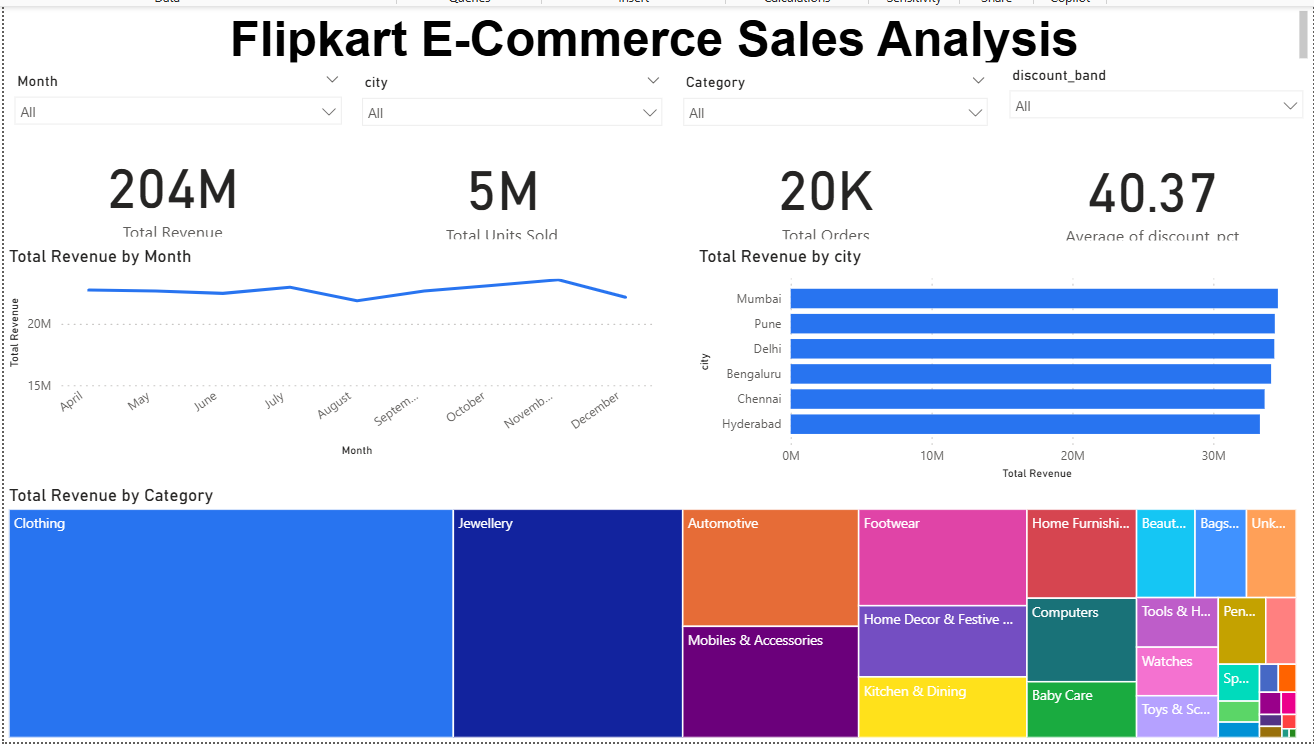

What the dashboard file says about the page in this screenshot:
{"tool":"powerbi","page":{"name":"Executive Overview","canvas":[1280,720],"ordinal":0},"visuals":[{"type":"card","fields":{"Values":["flipkart_cleaned.Total Revenue"]},"box":[0,134.5,330.7,96.1],"z":0},{"type":"card","fields":{"Values":["flipkart_cleaned.Total Units Sold"]},"box":[340.3,137.2,295,96.1],"z":1000},{"type":"card","fields":{"Values":["flipkart_cleaned.Total Orders"]},"box":[639.5,137.2,329.3,96.1],"z":2000},{"type":"card","fields":{"Values":["Avg(flipkart_cleaned.discount_pct)"]},"box":[972.9,138.6,300.5,96.1],"z":3000},{"type":"clusteredBarChart","fields":{"Y":["flipkart_cleaned.Total Revenue"],"Category":["flipkart_cleaned.city"]},"box":[675.1,234.6,594.2,233.3],"z":4000},{"type":"lineChart","fields":{"Y":["flipkart_cleaned.Total Revenue"],"Category":["flipkart_cleaned.month.Variation.Date Hierarchy.Month"]},"box":[0,234.6,639.5,211.3],"z":5000},{"type":"treemap","fields":{"Group":["flipkart_cleaned.Category"],"Values":["flipkart_cleaned.Total Revenue"]},"box":[0,467.9,1269.3,252.5],"z":6000},{"type":"slicer","fields":{"Values":["flipkart_cleaned.month.Variation.Date Hierarchy.Month"]},"box":[0,60.4,340.3,76.8],"z":7000},{"type":"slicer","fields":{"Values":["flipkart_cleaned.city"]},"box":[340.3,61.7,314.2,76.8],"z":8000},{"type":"slicer","fields":{"Values":["flipkart_cleaned.Category"]},"box":[654.5,61.7,318.4,76.8],"z":9000},{"type":"slicer","fields":{"Values":["flipkart_cleaned.discount_band"]},"box":[972.9,53.5,307.4,81],"z":10000},{"type":"textbox","box":[0,0,1280.3,60.4],"z":11000}]}

Visuals, with their boxes on the page's 1280x720 design canvas (x1, y1, x2, y2). These are canvas units, not pixel positions in the 1314x749 screenshot, which may show the page scaled, cropped or inside an application window:
card - flipkart_cleaned.Total Revenue: x1=0 y1=134 x2=331 y2=231
card - flipkart_cleaned.Total Units Sold: x1=340 y1=137 x2=635 y2=233
card - flipkart_cleaned.Total Orders: x1=640 y1=137 x2=969 y2=233
card - Avg(flipkart_cleaned.discount_pct): x1=973 y1=139 x2=1273 y2=235
clusteredBarChart - flipkart_cleaned.Total Revenue x flipkart_cleaned.city: x1=675 y1=235 x2=1269 y2=468
lineChart - flipkart_cleaned.Total Revenue x flipkart_cleaned.month.Variation.Date Hierarchy.Month: x1=0 y1=235 x2=640 y2=446
treemap - flipkart_cleaned.Category x flipkart_cleaned.Total Revenue: x1=0 y1=468 x2=1269 y2=720
slicer - flipkart_cleaned.month.Variation.Date Hierarchy.Month: x1=0 y1=60 x2=340 y2=137
slicer - flipkart_cleaned.city: x1=340 y1=62 x2=654 y2=138
slicer - flipkart_cleaned.Category: x1=654 y1=62 x2=973 y2=138
slicer - flipkart_cleaned.discount_band: x1=973 y1=54 x2=1280 y2=134
textbox: x1=0 y1=0 x2=1280 y2=60
